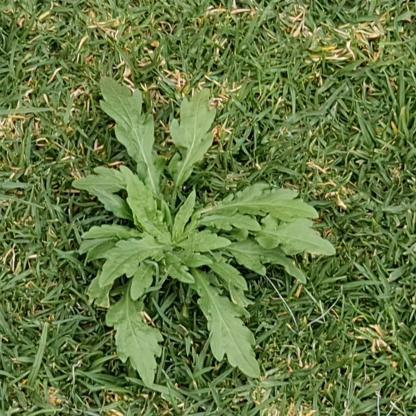Weeds: (74, 75, 337, 386)
